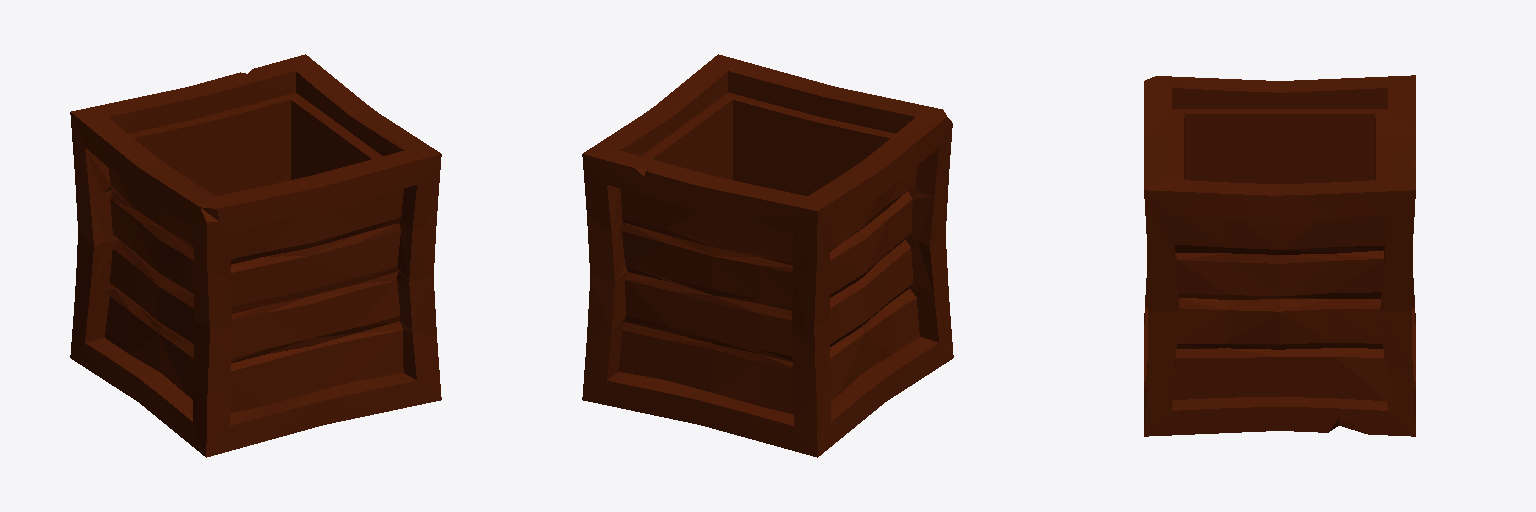
Rendered from crate_open_broken.obj.
The picture shows the model from 3 angles: view 1: azimuth 30°, elevation 25°; view 2: azimuth 150°, elevation 25°; view 3: azimuth 270°, elevation 25°; orthographic projection.
Visible parts, largest first — view 1: Cube.003; view 2: Cube.003; view 3: Cube.003.
Boxes of the visible parts, <box> form: Cube.003: <box>70,54,441,457</box>; Cube.003: <box>582,54,953,457</box>; Cube.003: <box>1144,75,1415,436</box>.
Bounding box in the file's own units: 2 × 2 × 2.